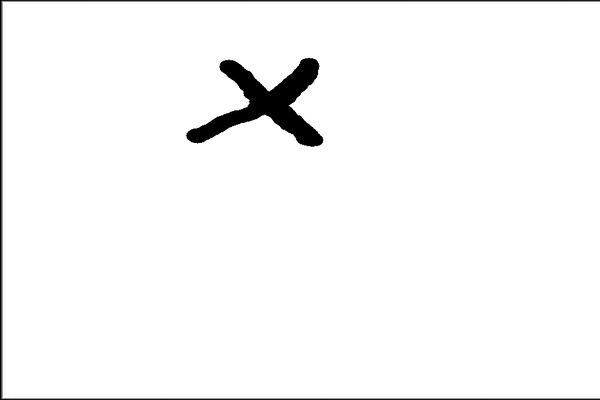X: (164, 44, 344, 158)
